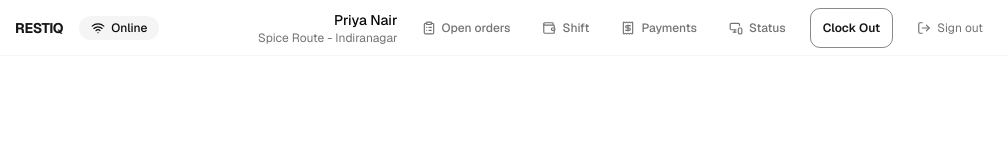
Scenario: ShiftBar › shows an inline error with retry when clocking out fails, without signing out
Click the button with test id "pos-shift-bar-clock-out" at (851, 28), box [810,8,893,48]
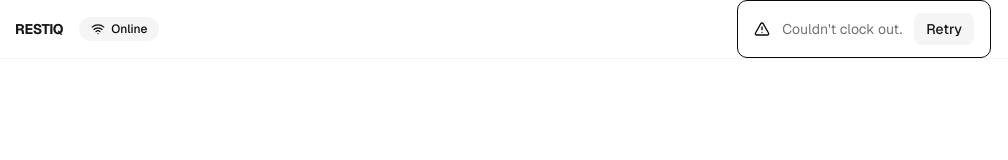
Expected: the message "Couldn't clock out. Retry" is shown, [737,0,991,58]
